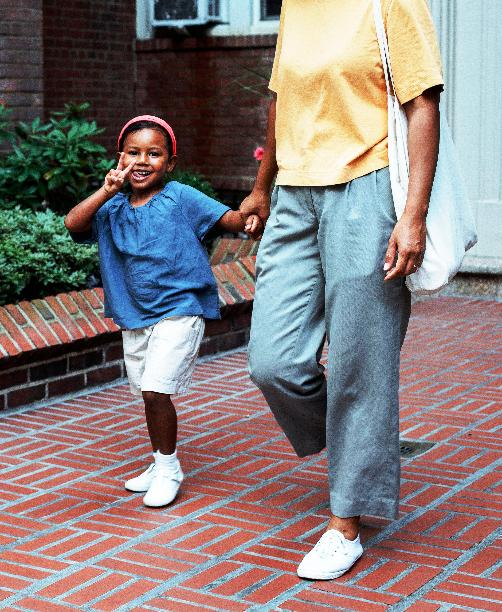Scissors: (101, 147, 142, 193)
